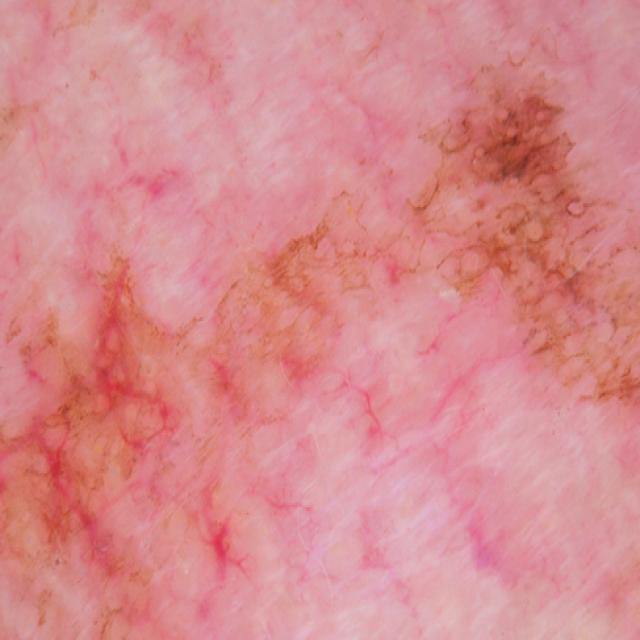Keratosis: (113, 157, 444, 574), (359, 55, 640, 463), (0, 235, 198, 639)
